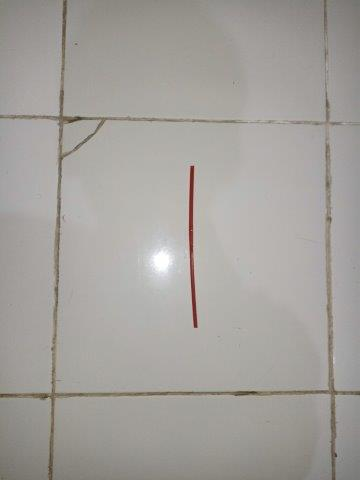sedotan: (189, 165, 199, 328)
